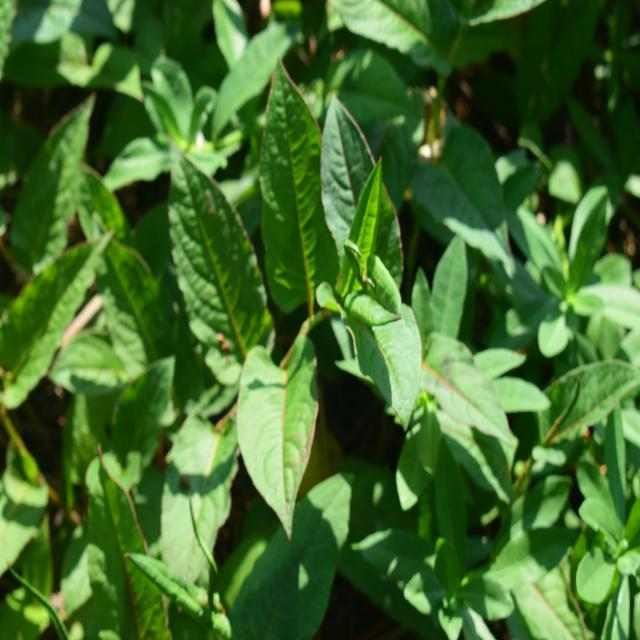Chinese_knotweed: (166, 67, 420, 516)
